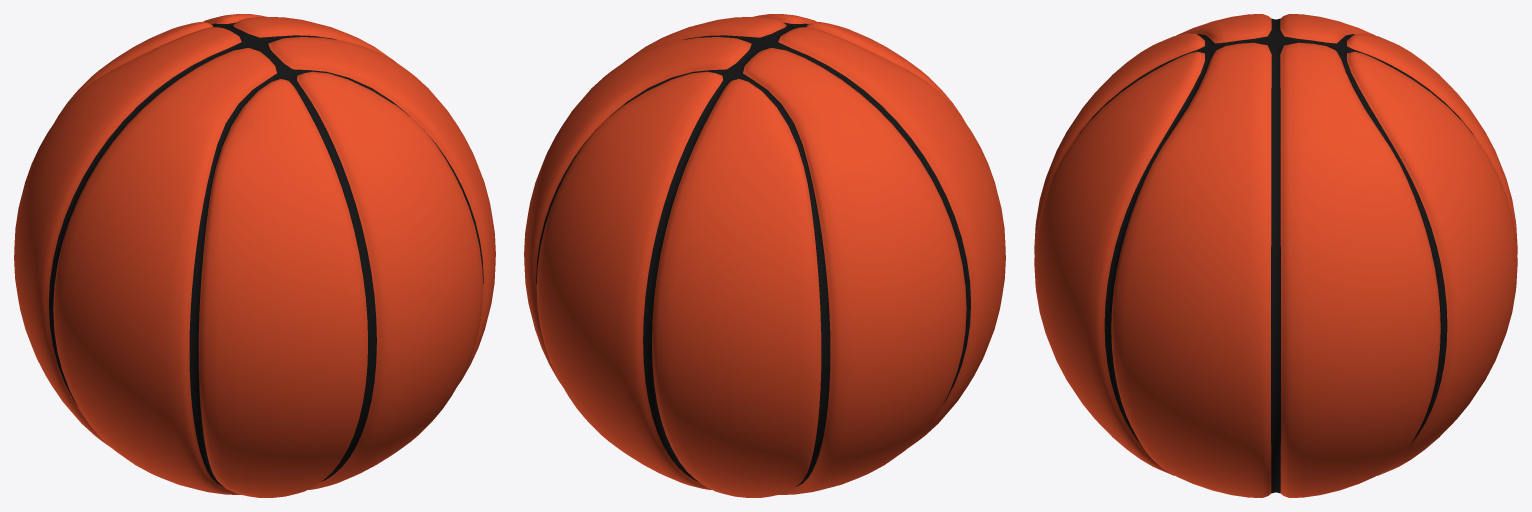
The model's file is ballon basket.fbx.
3 renders of one model, left to right at view 1: azimuth 30°, elevation 25°; view 2: azimuth 150°, elevation 25°; view 3: azimuth 270°, elevation 25°, orthographic.
Parts seen in each view (by area): view 1: Cube.016; view 2: Cube.016; view 3: Cube.016.
Boxes of the visible parts, <box> form: Cube.016: <box>14,14,495,497</box>; Cube.016: <box>524,14,1005,497</box>; Cube.016: <box>1034,14,1517,497</box>.
Size of the model in its own units: 419 by 418 by 419.
